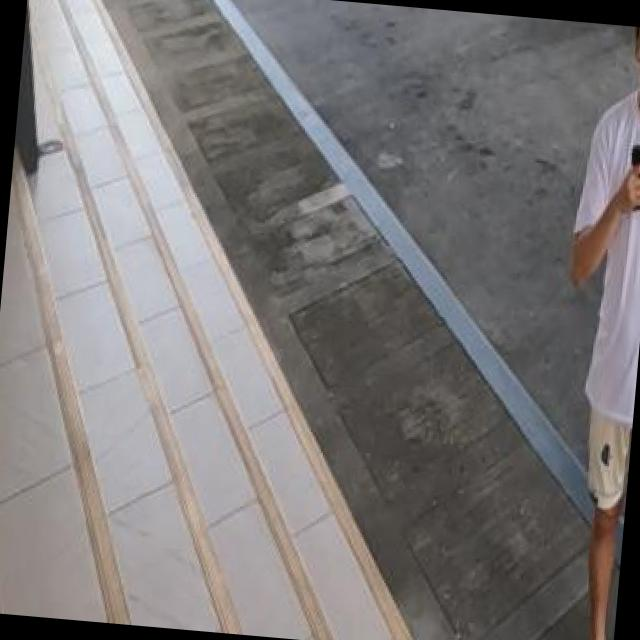Guns: (611, 115, 640, 208)
